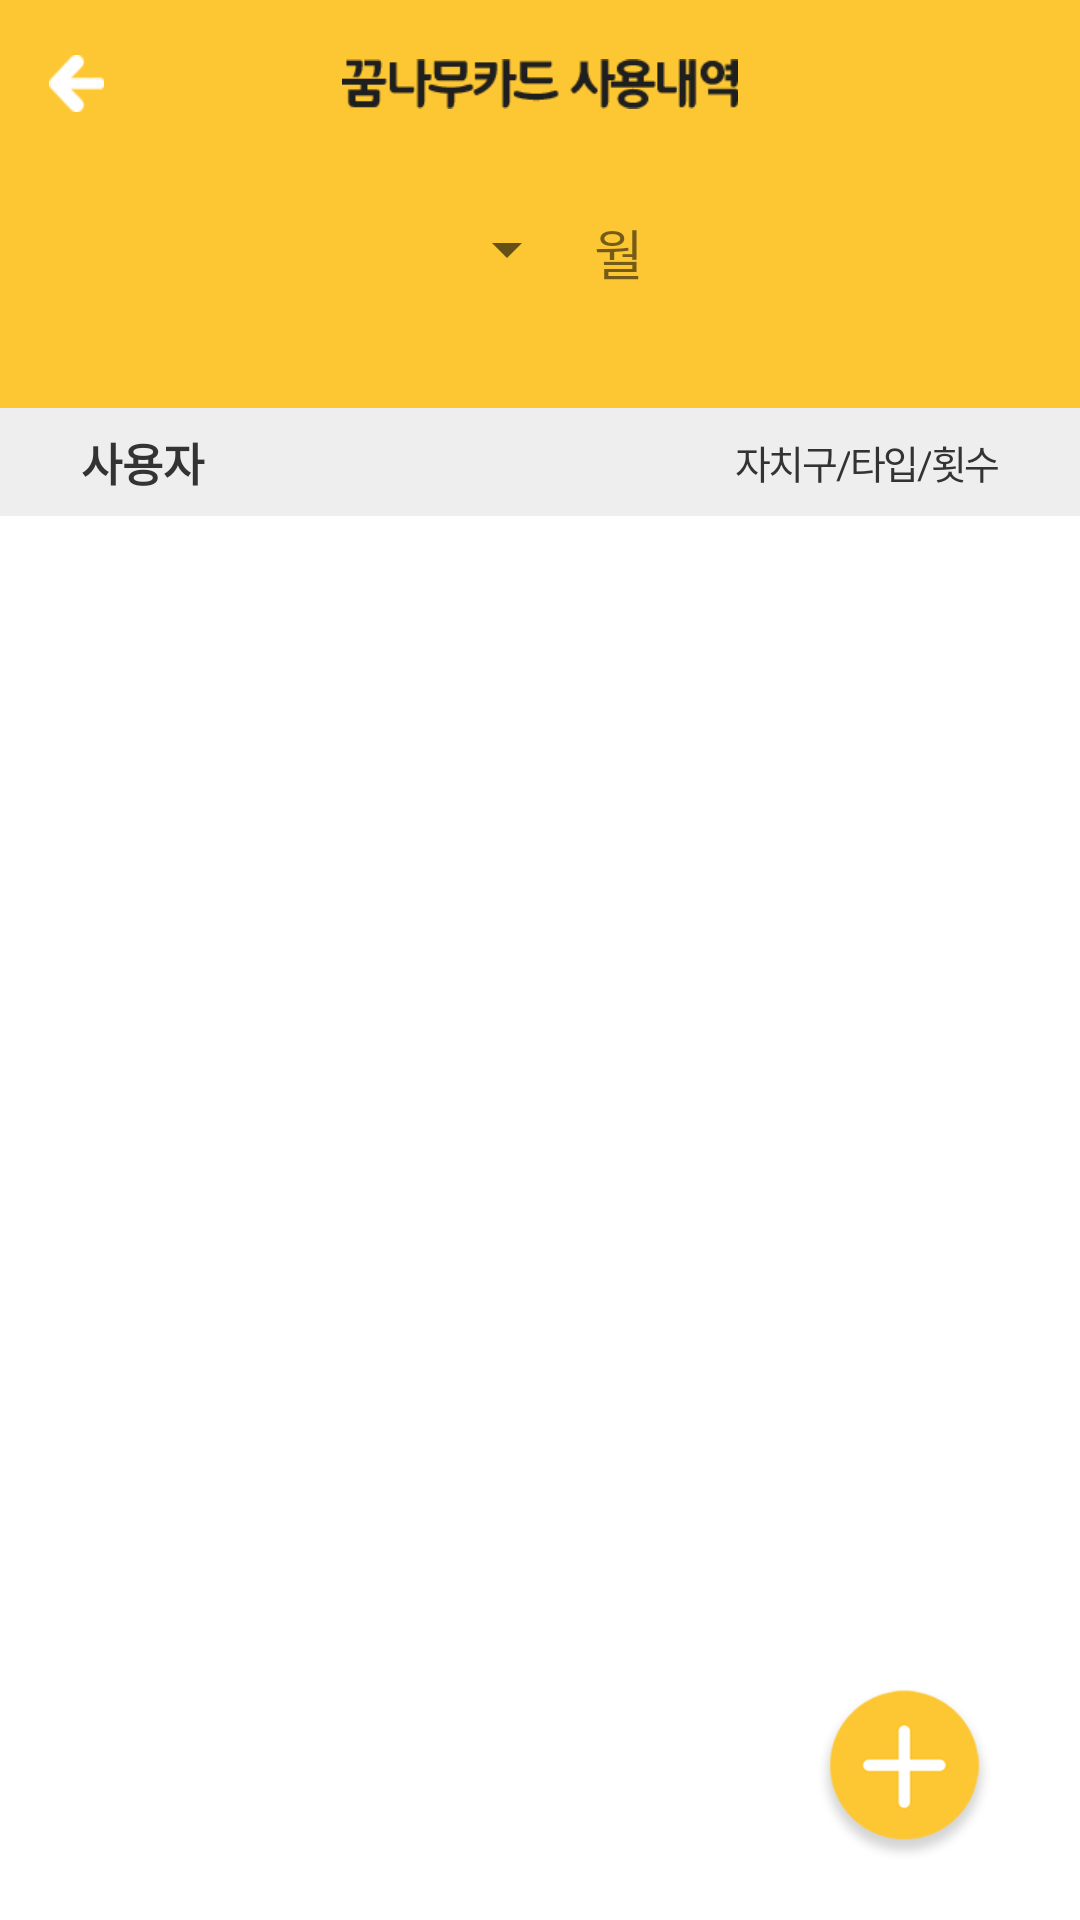

Screen size 1080px x 1920px. Icon name, then its center in pixels as (x=x, y=y):
list back: (x=76, y=83)
list plus: (x=904, y=1770)
